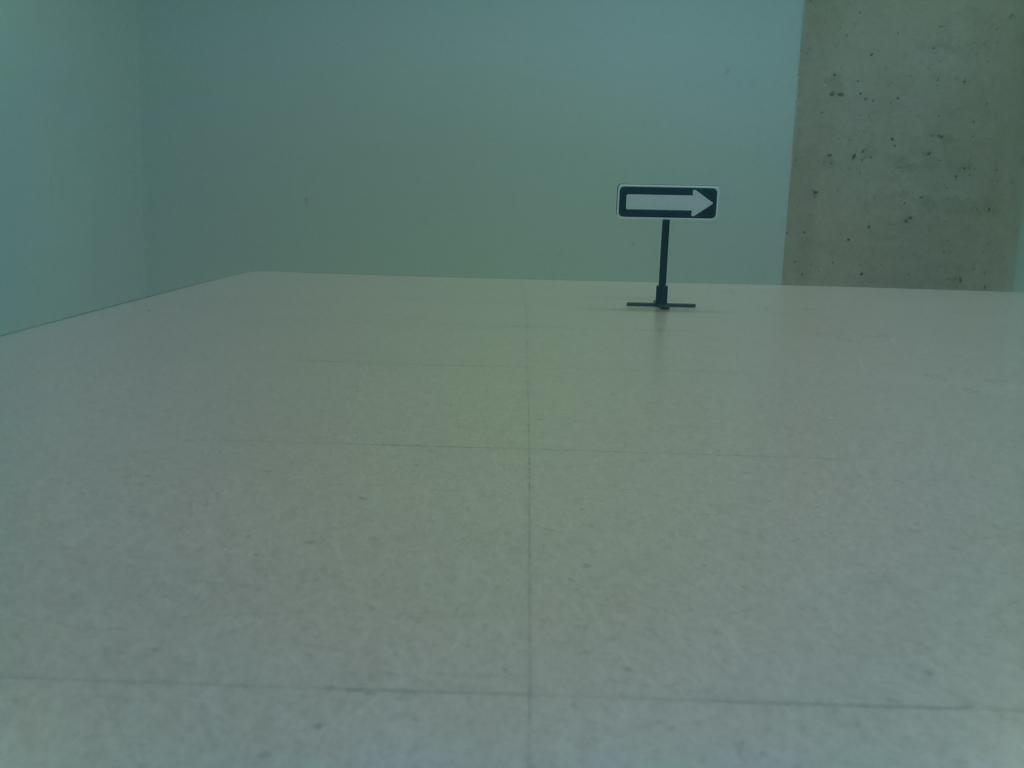sign_oneway_right: (615, 181, 724, 224)
